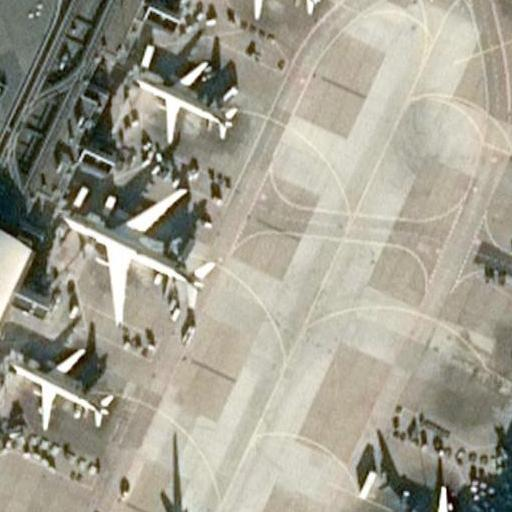Aircraft: (57, 186, 202, 311), (124, 52, 233, 141), (7, 339, 117, 427), (373, 488, 487, 512), (204, 0, 322, 23), (501, 0, 512, 34)
